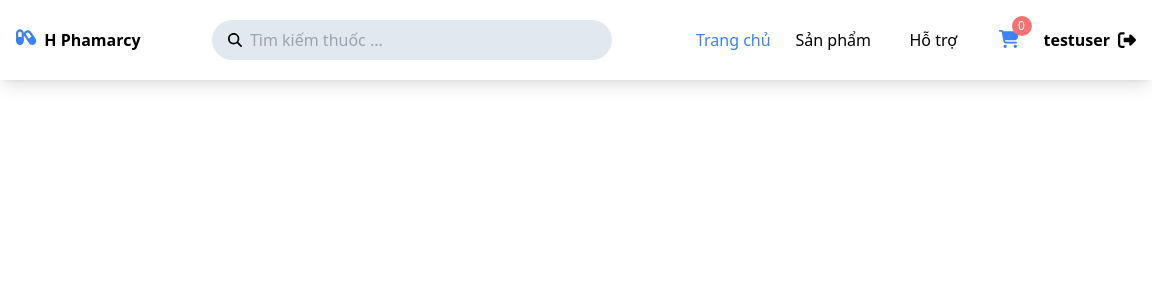
Test: Header Component › performs search functionality
In the field with placeholder "Tìm kiếm thuốc ...": (406, 40) [250, 28, 563, 52], type "Paracetamol"
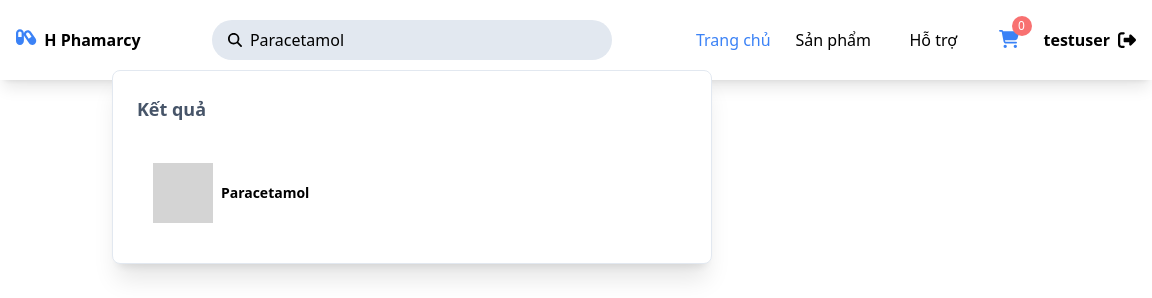
Check: the text "Paracetamol" is shown, box [221, 183, 309, 202]
